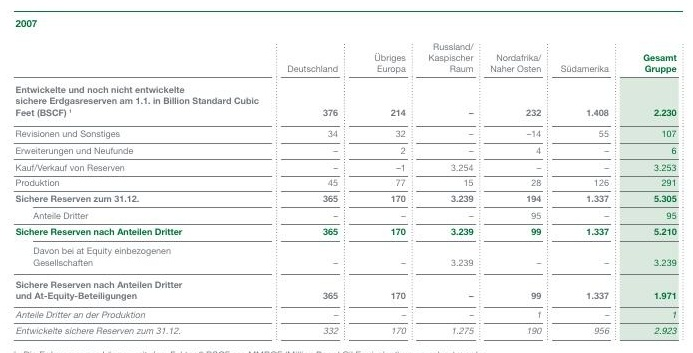table: (0, 0, 693, 353)
